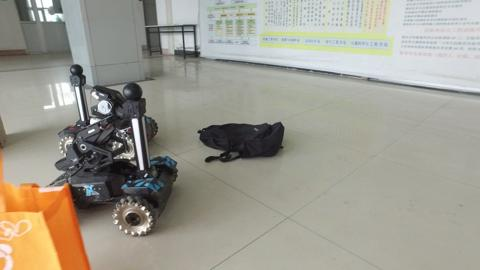bag: (198, 113, 290, 168)
chariot: (45, 84, 182, 235), (56, 65, 156, 151)
